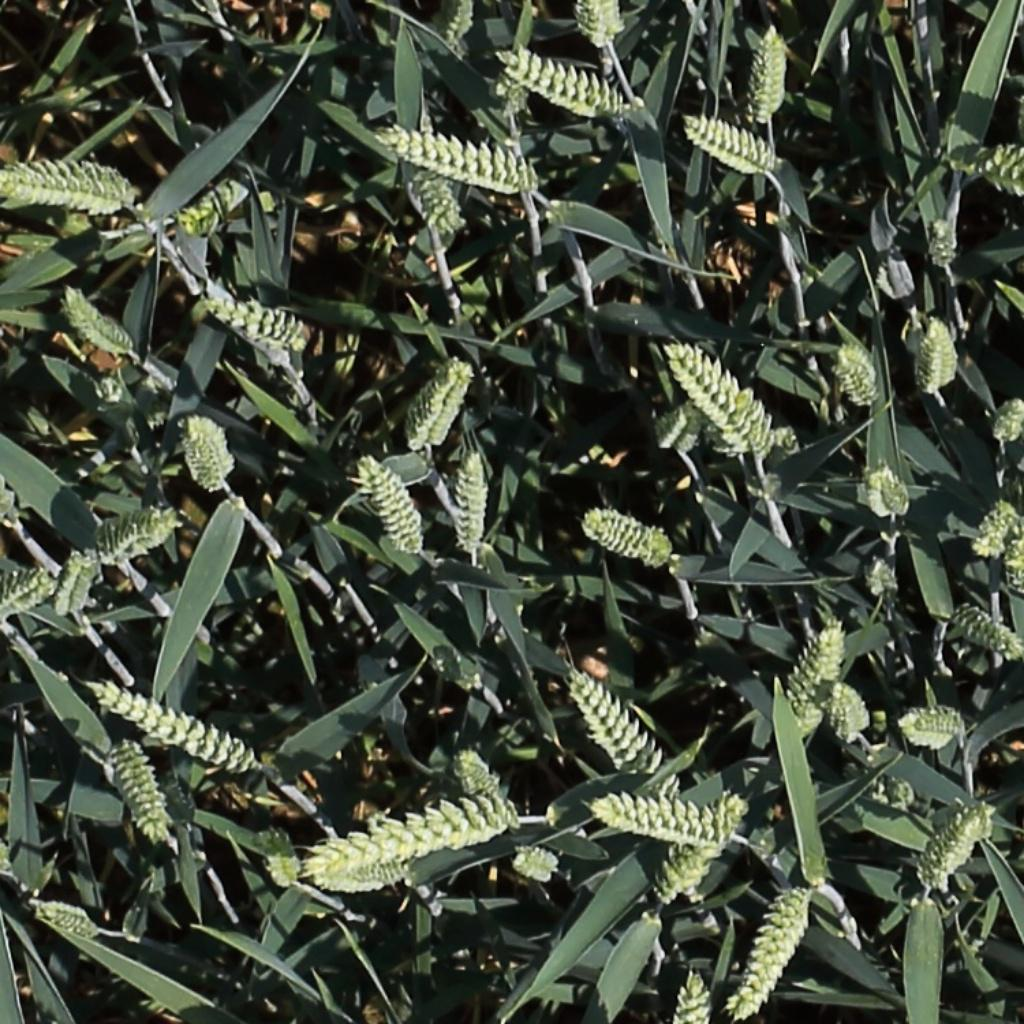0-0: (285, 795, 520, 869), (94, 685, 262, 774), (669, 345, 776, 456), (733, 879, 816, 1019), (653, 795, 748, 912), (569, 670, 667, 775), (379, 126, 533, 185), (196, 268, 312, 345), (0, 159, 141, 222), (583, 785, 724, 847), (499, 50, 632, 113), (576, 501, 681, 579), (399, 353, 482, 450), (921, 801, 1001, 891), (357, 453, 424, 557), (110, 740, 169, 847), (939, 136, 1024, 207), (60, 283, 136, 356), (684, 114, 778, 167), (790, 621, 832, 720), (412, 158, 462, 238), (177, 176, 243, 236), (181, 410, 228, 494), (456, 749, 510, 819), (94, 512, 176, 558), (950, 608, 1021, 660), (865, 768, 924, 821), (266, 812, 310, 883), (896, 703, 968, 745), (756, 24, 786, 124), (574, 0, 630, 53), (973, 498, 1022, 558), (51, 547, 90, 621), (831, 678, 873, 746), (836, 346, 882, 408), (461, 449, 487, 558), (871, 461, 914, 522), (924, 311, 953, 400), (312, 866, 413, 891), (668, 963, 708, 1024), (819, 613, 847, 699), (35, 902, 99, 937), (0, 578, 54, 618), (869, 554, 902, 613), (0, 569, 50, 606), (443, 0, 477, 54), (991, 395, 1024, 446), (931, 210, 957, 273), (512, 856, 561, 882)
